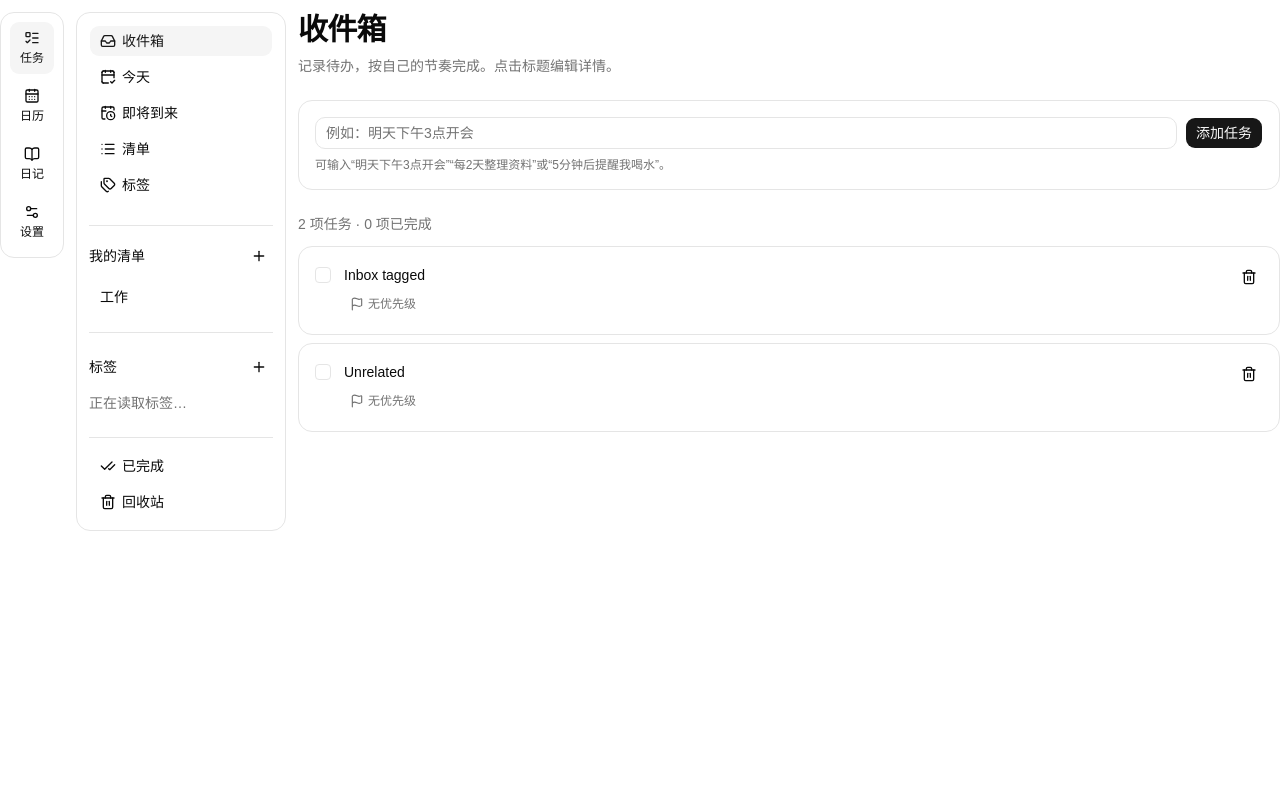
Test: reports metadata/relationship read errors and disables assignment
The width and height of the screenshot is (1280, 812).
Expected: the button "Inbox tagged" is shown, [343,264,1223,286]
Click the button with aria-label "打开标签": (181, 185) [89,169,273,201]
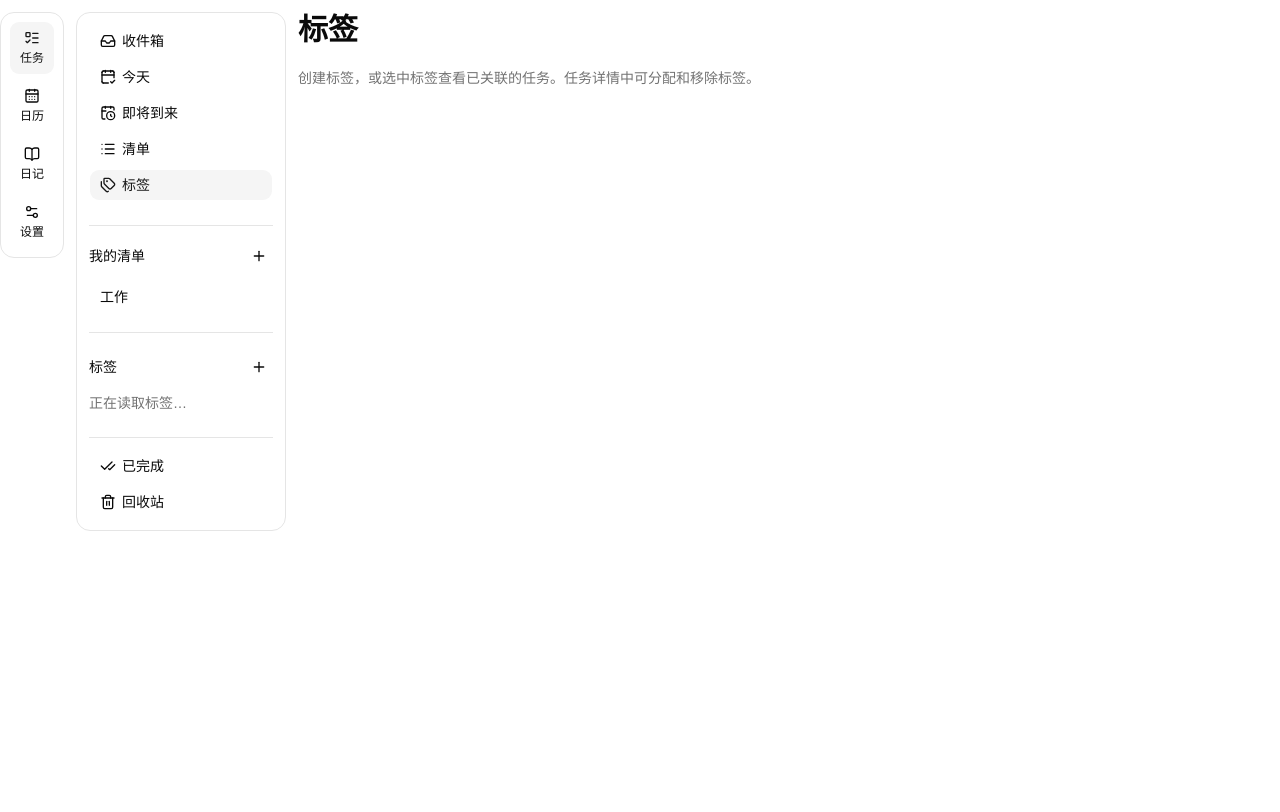
Click the button named "新建标签": (259, 367) [245,353,273,381]
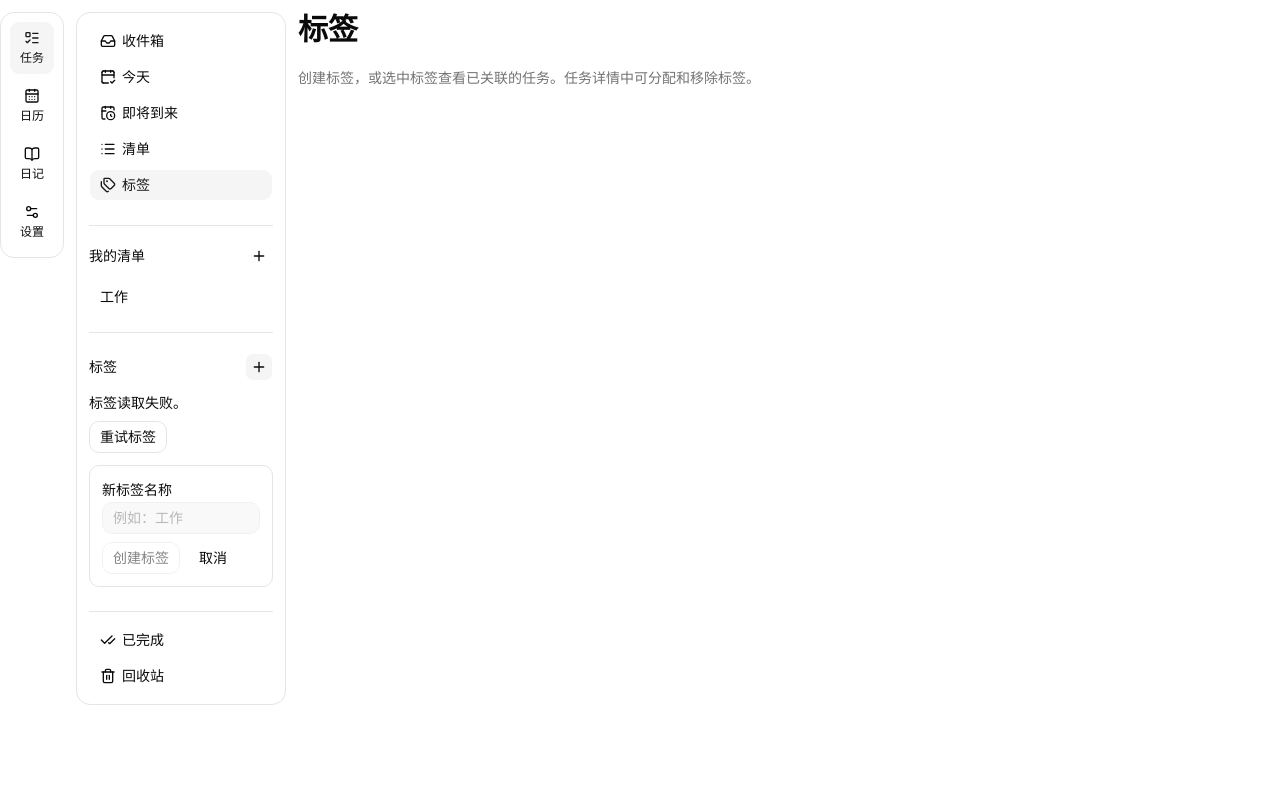
Result: the text "标签读取失败。" is shown at [89,395,187,411]
Click the button with aria-label "打开收件箱": (181, 41) [89,25,273,57]
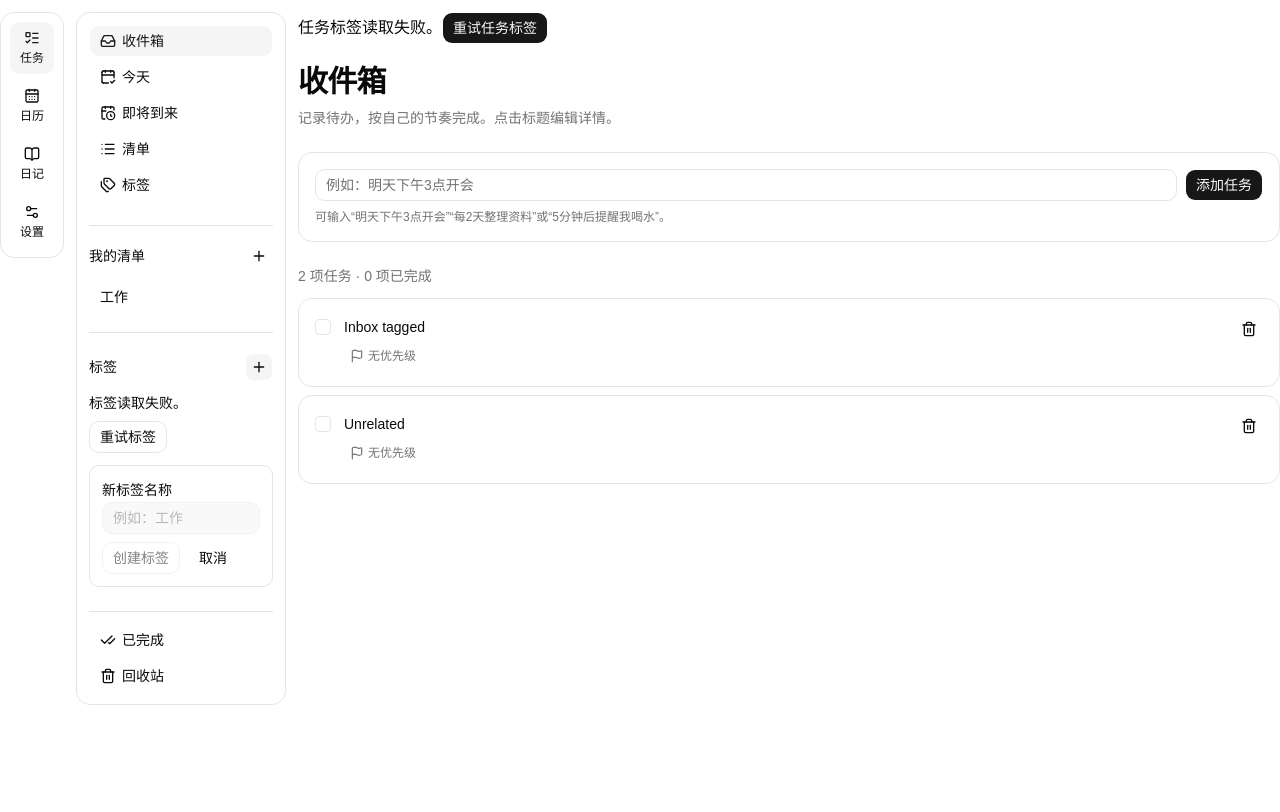
Result: the field labelled "新标签名称" is disabled at [102,502,260,534]
Result: the text "任务标签读取失败。" is shown at [298,19,442,36]
